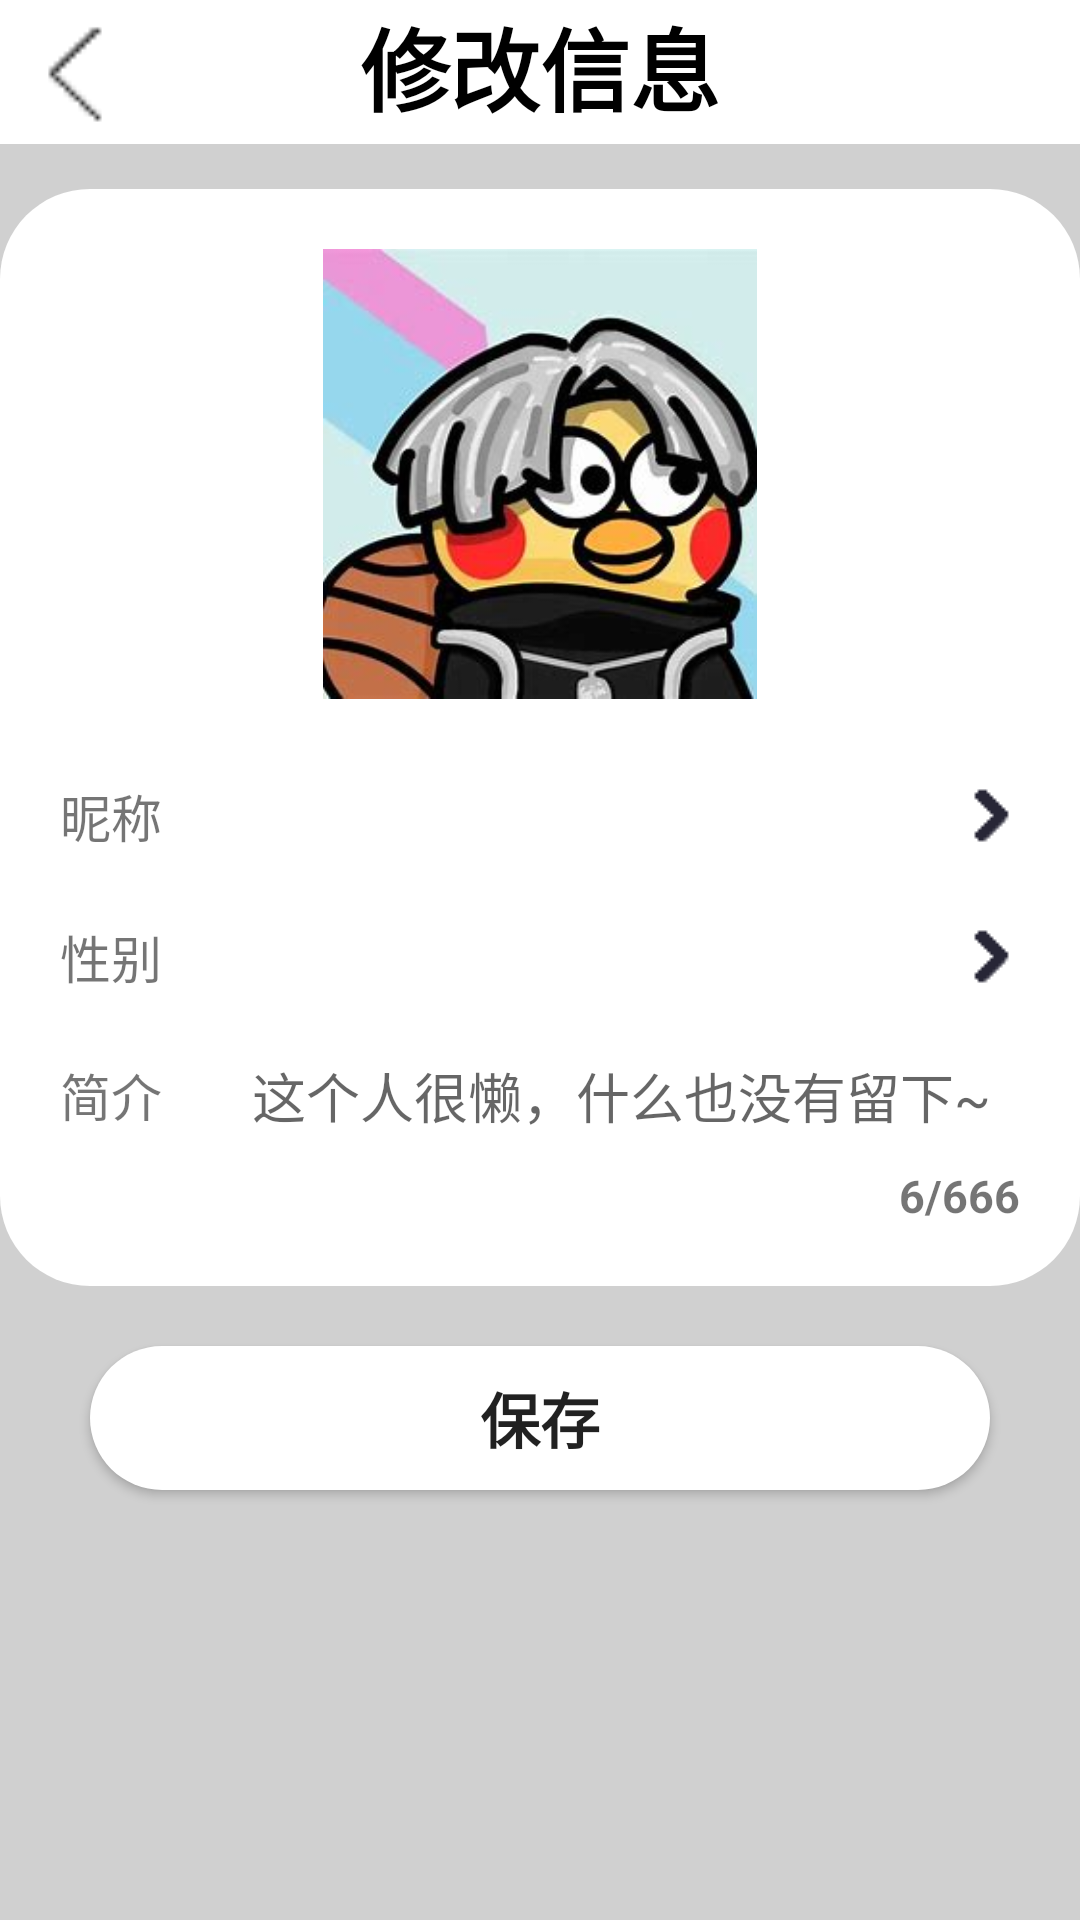

Screen size 1080px×1920px. Icon name, then its box in pixels as (x1, y1, x2, y2):
angle brackets left: (48, 27, 102, 122)
